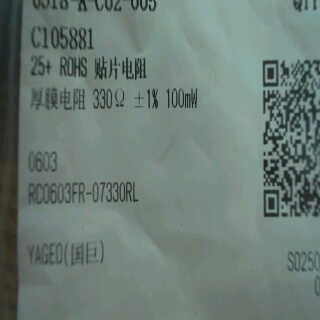330R: (92, 85, 129, 113)
